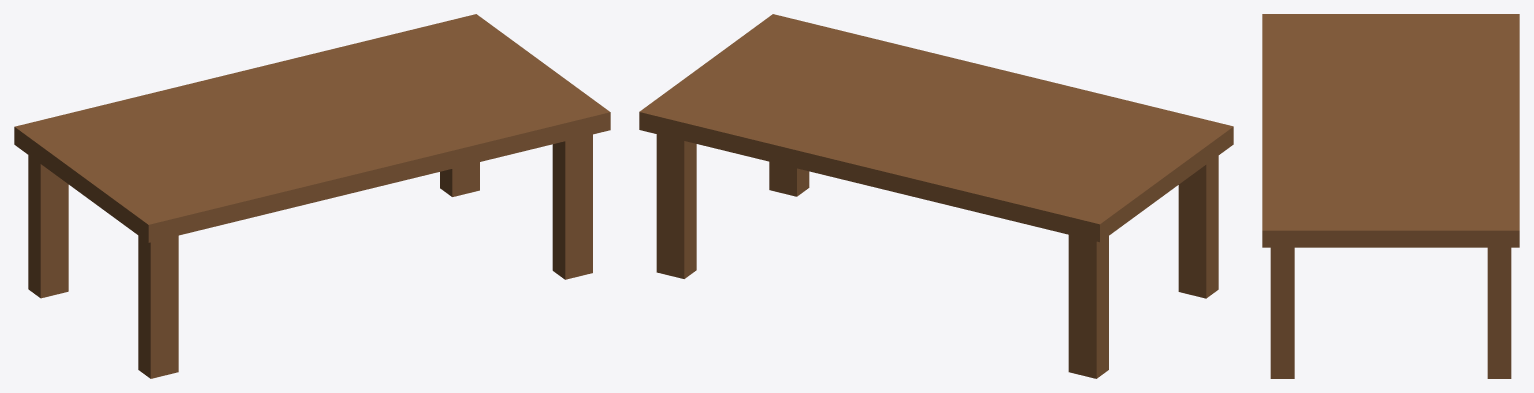
File: Bord1.glb
The picture shows the model from 3 angles, left to right: view 1: azimuth 30°, elevation 25°; view 2: azimuth 150°, elevation 25°; view 3: azimuth 270°, elevation 25°; orthographic projection. The views are drawn at different scales.
Visible parts, largest first — view 1: Cube, Cube.004, Cube.003, Cube.002, Cube.001; view 2: Cube, Cube.002, Cube.001, Cube.003, Cube.004; view 3: Cube, Cube.004, Cube.001.
Part boxes in pixels (<box>): Cube: <box>14,14,610,242</box>; Cube.004: <box>552,134,592,279</box>; Cube.003: <box>138,235,178,378</box>; Cube.002: <box>28,155,68,298</box>; Cube.001: <box>440,162,479,196</box>; Cube: <box>639,14,1233,242</box>; Cube.002: <box>1068,235,1108,378</box>; Cube.001: <box>656,134,696,278</box>; Cube.003: <box>1178,156,1218,298</box>; Cube.004: <box>769,161,809,196</box>; Cube: <box>1262,14,1519,247</box>; Cube.004: <box>1270,247,1294,378</box>; Cube.001: <box>1487,247,1511,378</box>.
Size of the model in its own units: 3.98 by 1.32 by 2.
